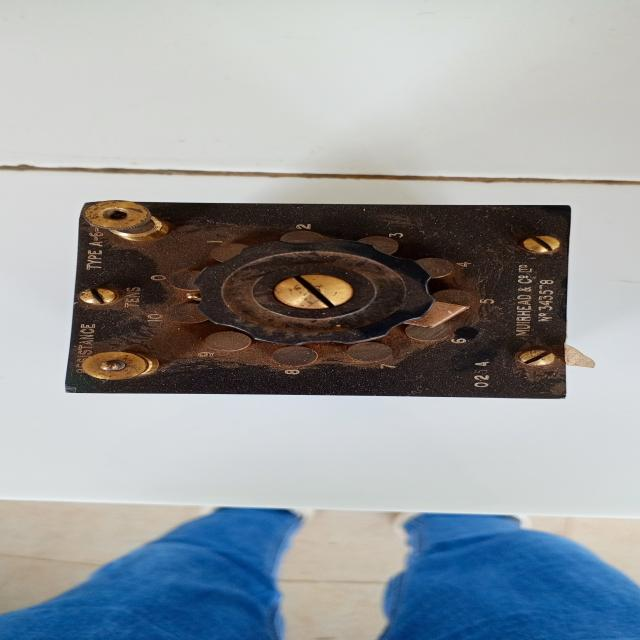Set of Resistances: (11, 188, 601, 414)
